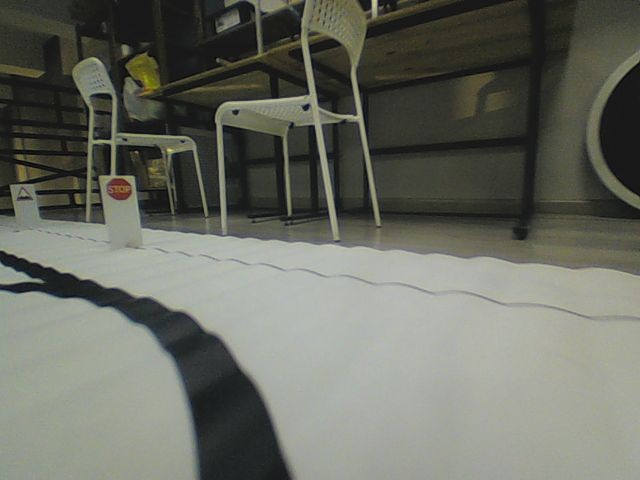Nerov: (15, 186, 33, 203)
Stop: (105, 177, 133, 201)
